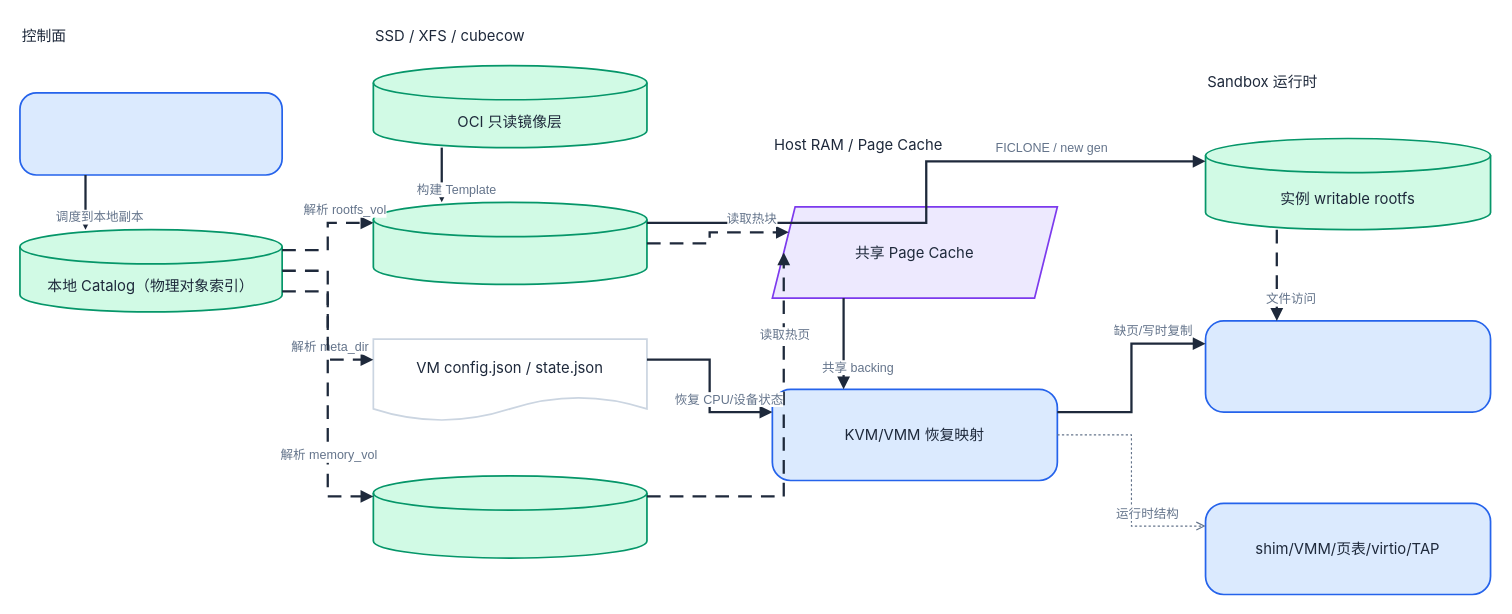
Some shapes in this 1512 by 614 pixel diagram are drawn without their labels. Each missing label, with the box of its shape:
API / Master（逻辑 ID）: (19, 92, 282, 175)
Guest memory 快照: (372, 475, 647, 558)
Guest RAM（按需加载）: (1204, 320, 1491, 412)
Template/Snapshot rootfs: (372, 201, 647, 285)
